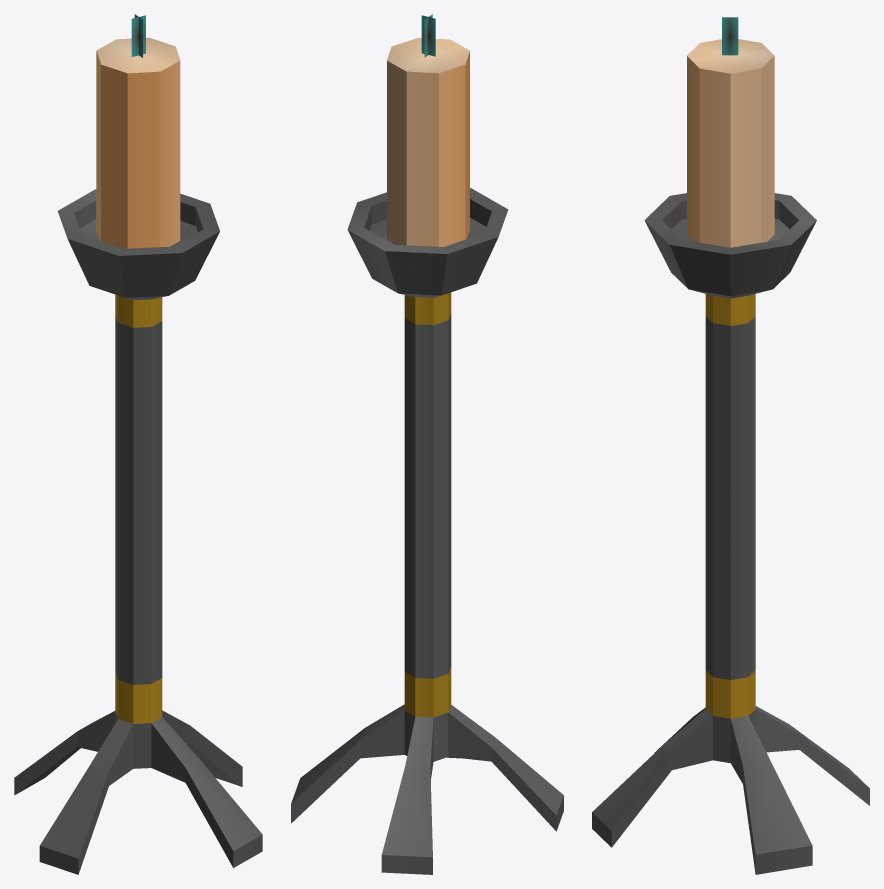
Rendered from Candle_336x14.obj.
3 views of the same model, side by side, from view 1: azimuth 30°, elevation 25°; view 2: azimuth 150°, elevation 25°; view 3: azimuth 270°, elevation 25° (orthographic).
Parts seen in each view (by area): view 1: Candle_336x14; view 2: Candle_336x14; view 3: Candle_336x14.
Boxes of the visible parts, x1,y1,x2,y2 form: Candle_336x14: (14, 14, 262, 874); Candle_336x14: (291, 14, 563, 874); Candle_336x14: (592, 17, 869, 874).
Bounding box in the file's own units: 0.4538 × 1.52 × 0.4768.
